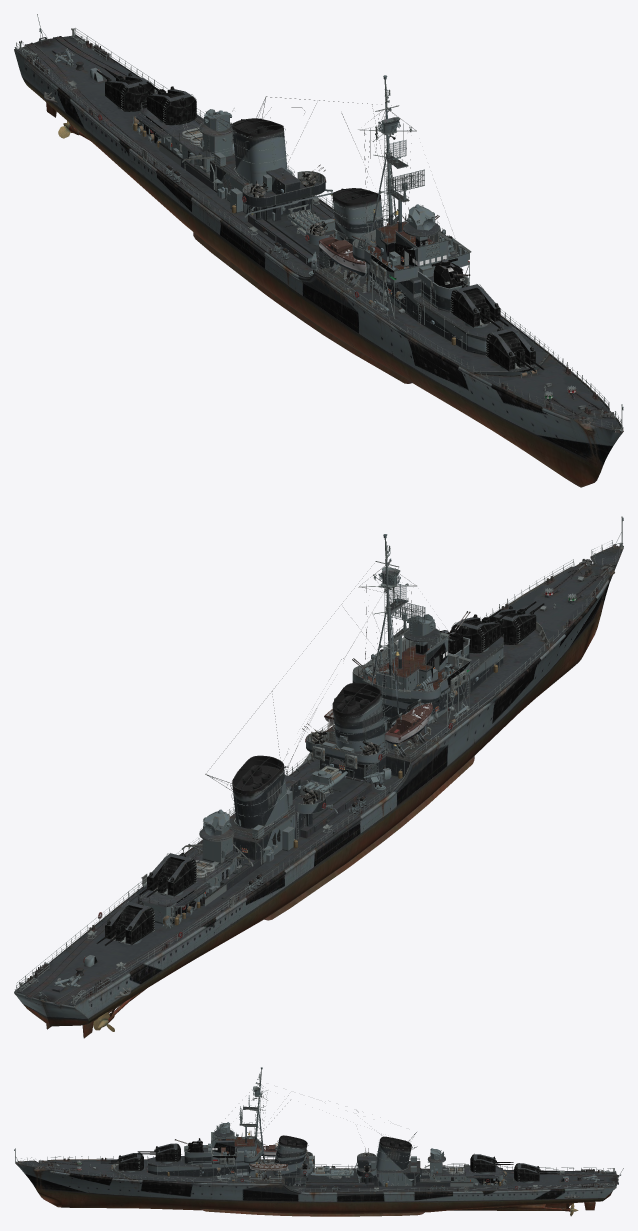
The model's file is german_destroyer_z-57-maximum-compressed.glb.
3 renders of one model, top to bottom at view 1: azimuth 30°, elevation 25°; view 2: azimuth 150°, elevation 25°; view 3: azimuth 270°, elevation 25°, orthographic. The views are drawn at different scales.
Visible parts, largest first — view 1: GSD009_Z52_1945_midback, GSD009_Z52_1945_midback_Hannover_ggs123_127mm_61_twin_skinne; view 2: GSD009_Z52_1945_midback, GSD009_Z52_1945_midback_Hannover_ggs123_127mm_61_twin_skinne; view 3: GSD009_Z52_1945_midback, GSD009_Z52_1945_midback_Hannover_ggs123_127mm_61_twin_skinne.
Boxes of the visible parts, x1,y1,x2,y2 form: GSD009_Z52_1945_midback: (14,14,623,487); GSD009_Z52_1945_midback_Hannover_ggs123_127mm_61_twin_skinne: (96,68,544,372); GSD009_Z52_1945_midback: (14,516,623,1038); GSD009_Z52_1945_midback_Hannover_ggs123_127mm_61_twin_skinne: (96,601,544,945); GSD009_Z52_1945_midback: (14,1067,623,1216); GSD009_Z52_1945_midback_Hannover_ggs123_127mm_61_twin_skinne: (101,1143,557,1181).
Size of the model in its own units: 8.64 by 23.06 by 89.07.
Materials: 50 (49 with a texture image).
